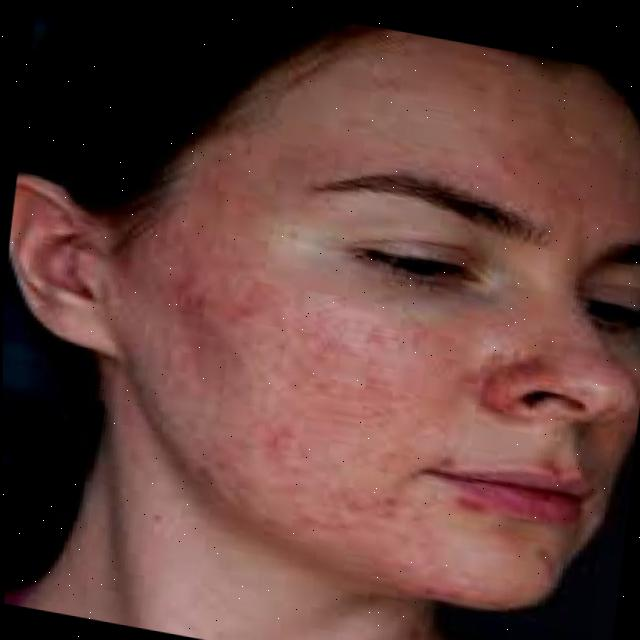Rosacea: (123, 210, 458, 566), (302, 64, 640, 238), (474, 334, 561, 438)
